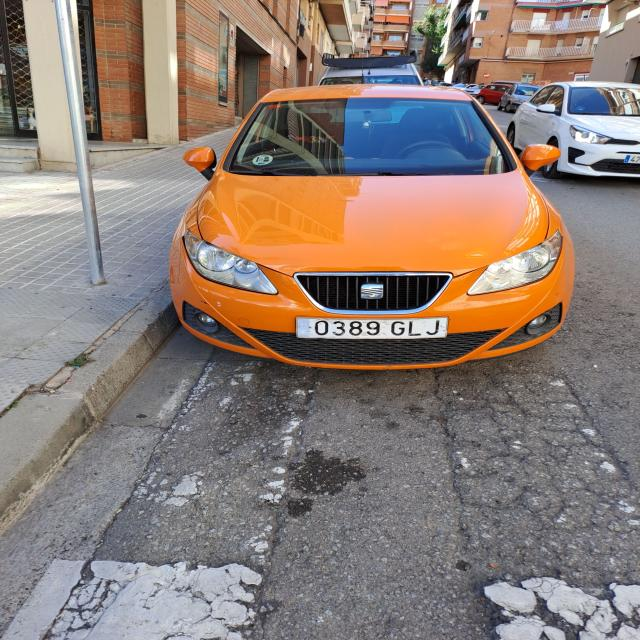license_plate-34Td: (296, 317, 449, 340)
